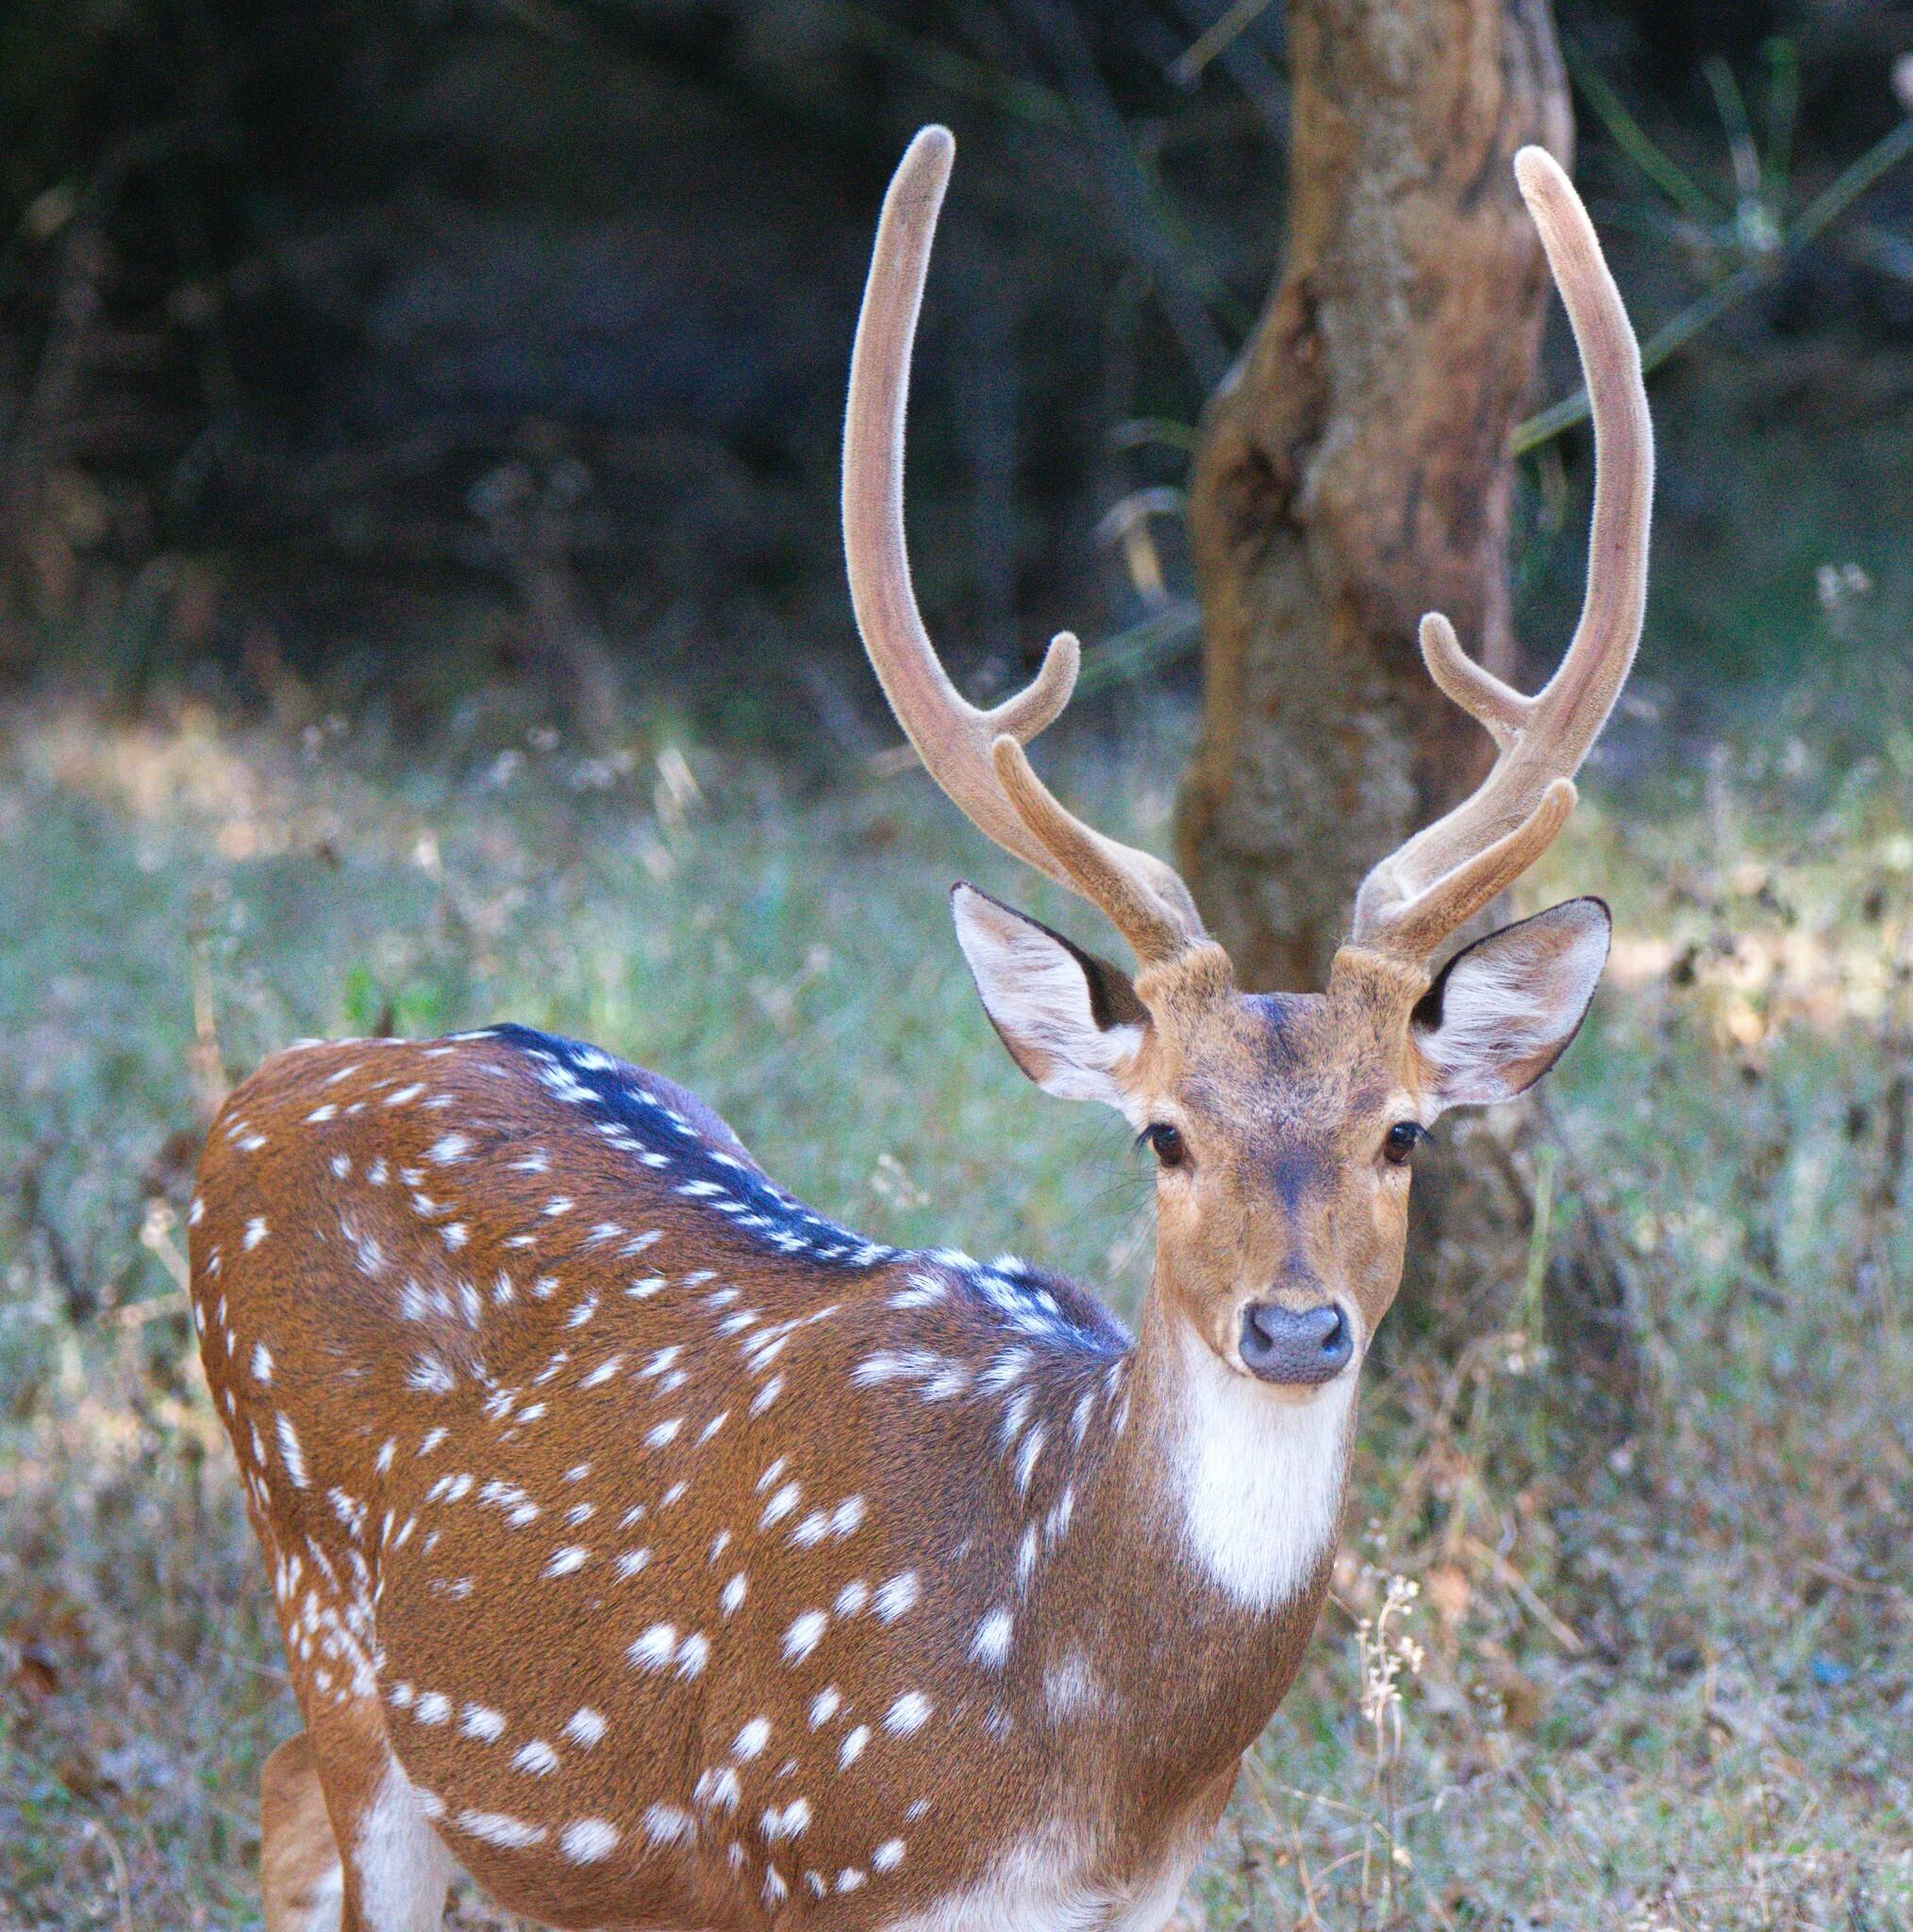Deer: (191, 128, 1652, 1927)
